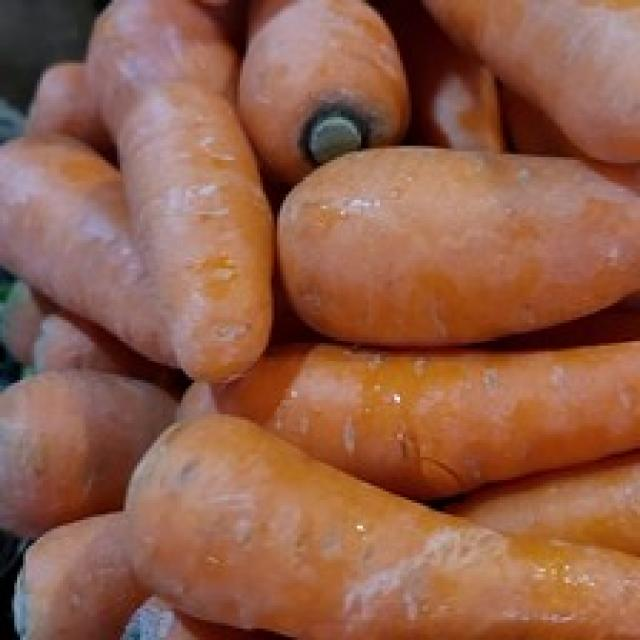Fresh_Carrot: (69, 0, 272, 418), (285, 159, 640, 334)
